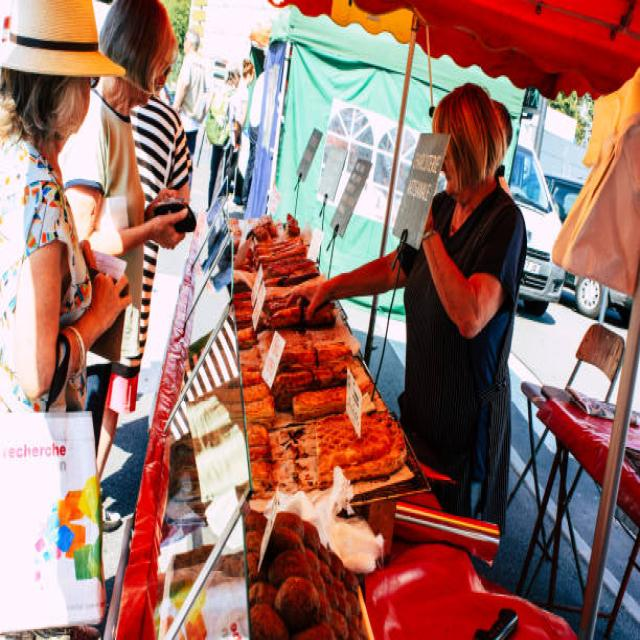Emperan: (104, 205, 584, 640)
